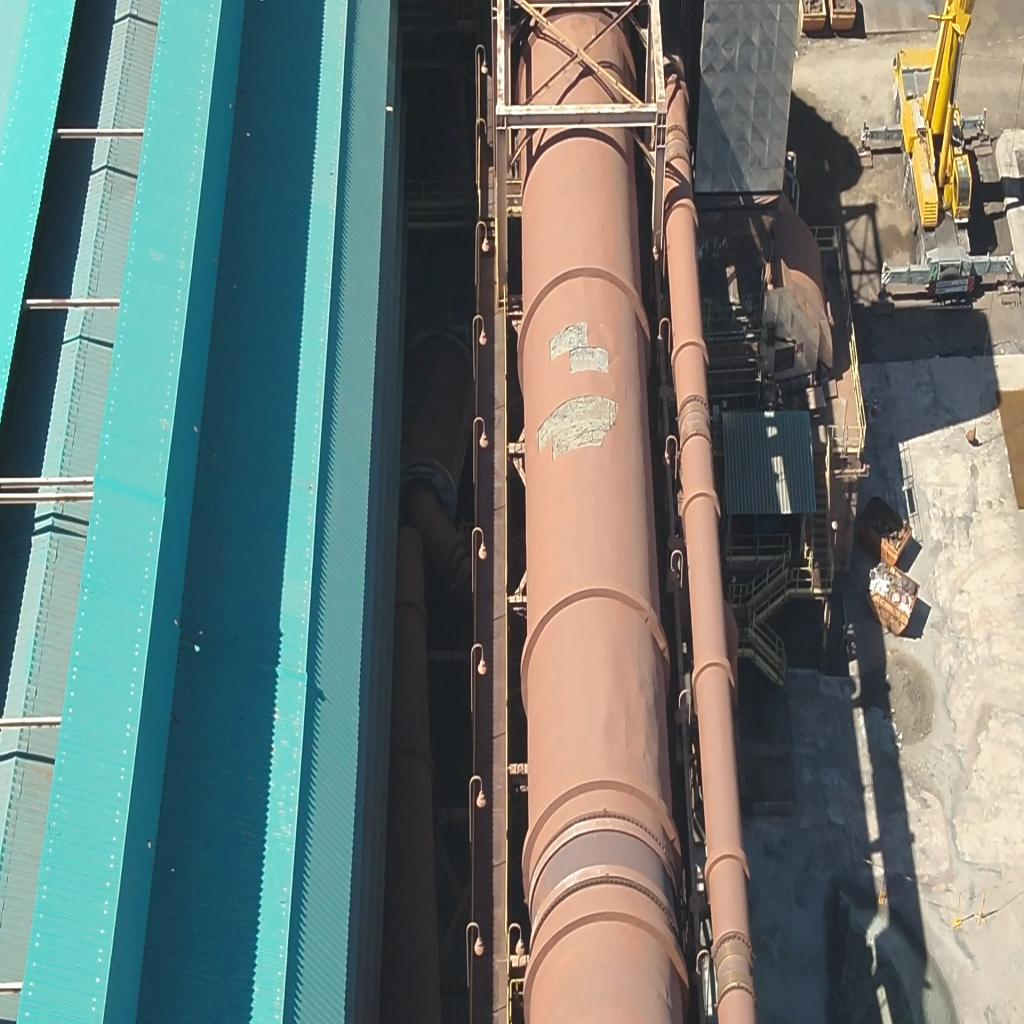Failures: (532, 390, 634, 460), (543, 321, 616, 381)
